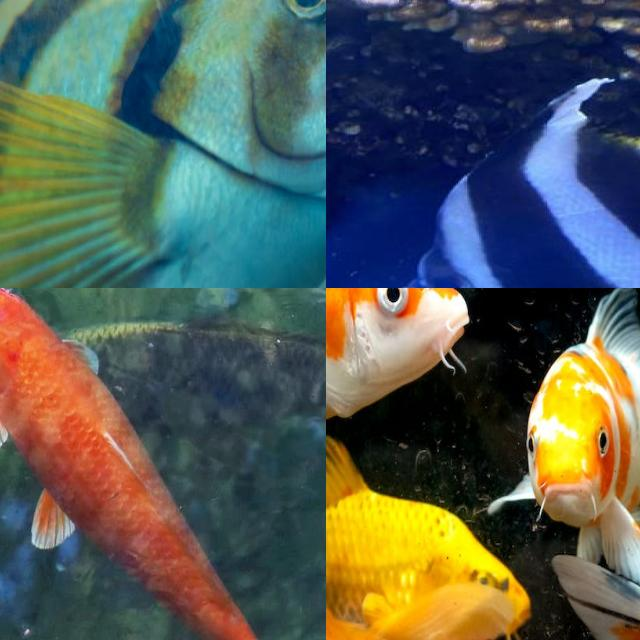fish: (0, 288, 326, 640), (0, 0, 326, 288), (506, 288, 640, 469)
